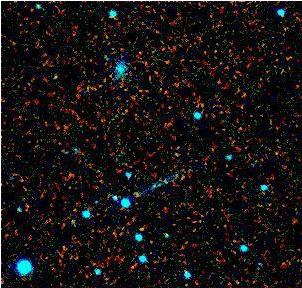star: (120, 183, 150, 213)
